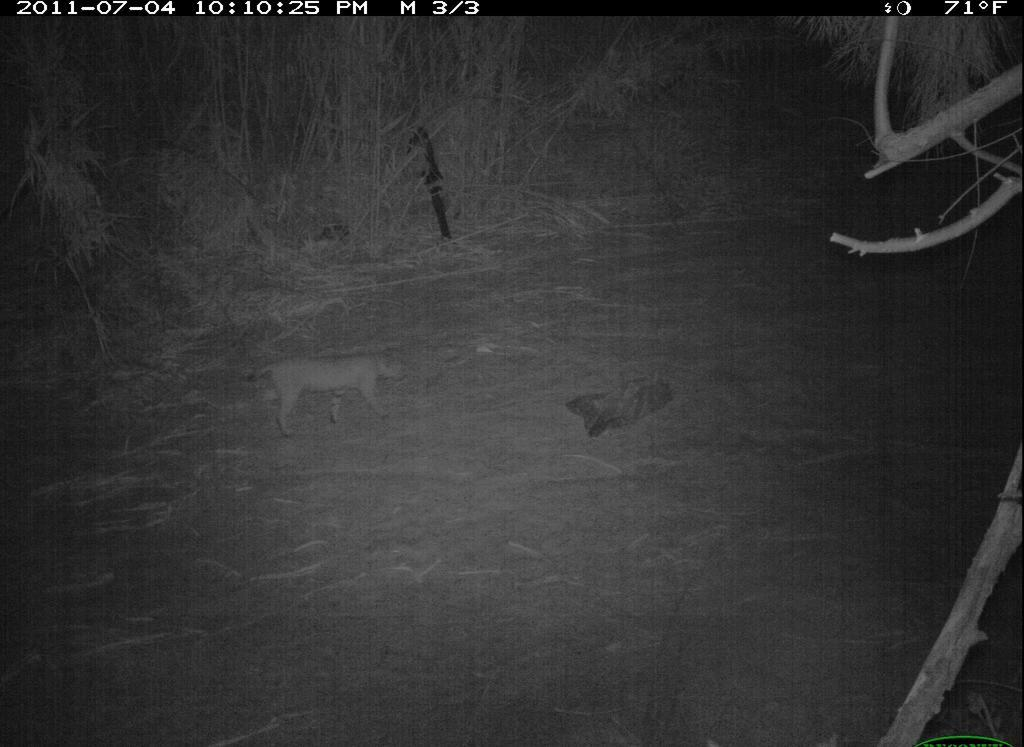bobcat: (242, 337, 425, 446)
